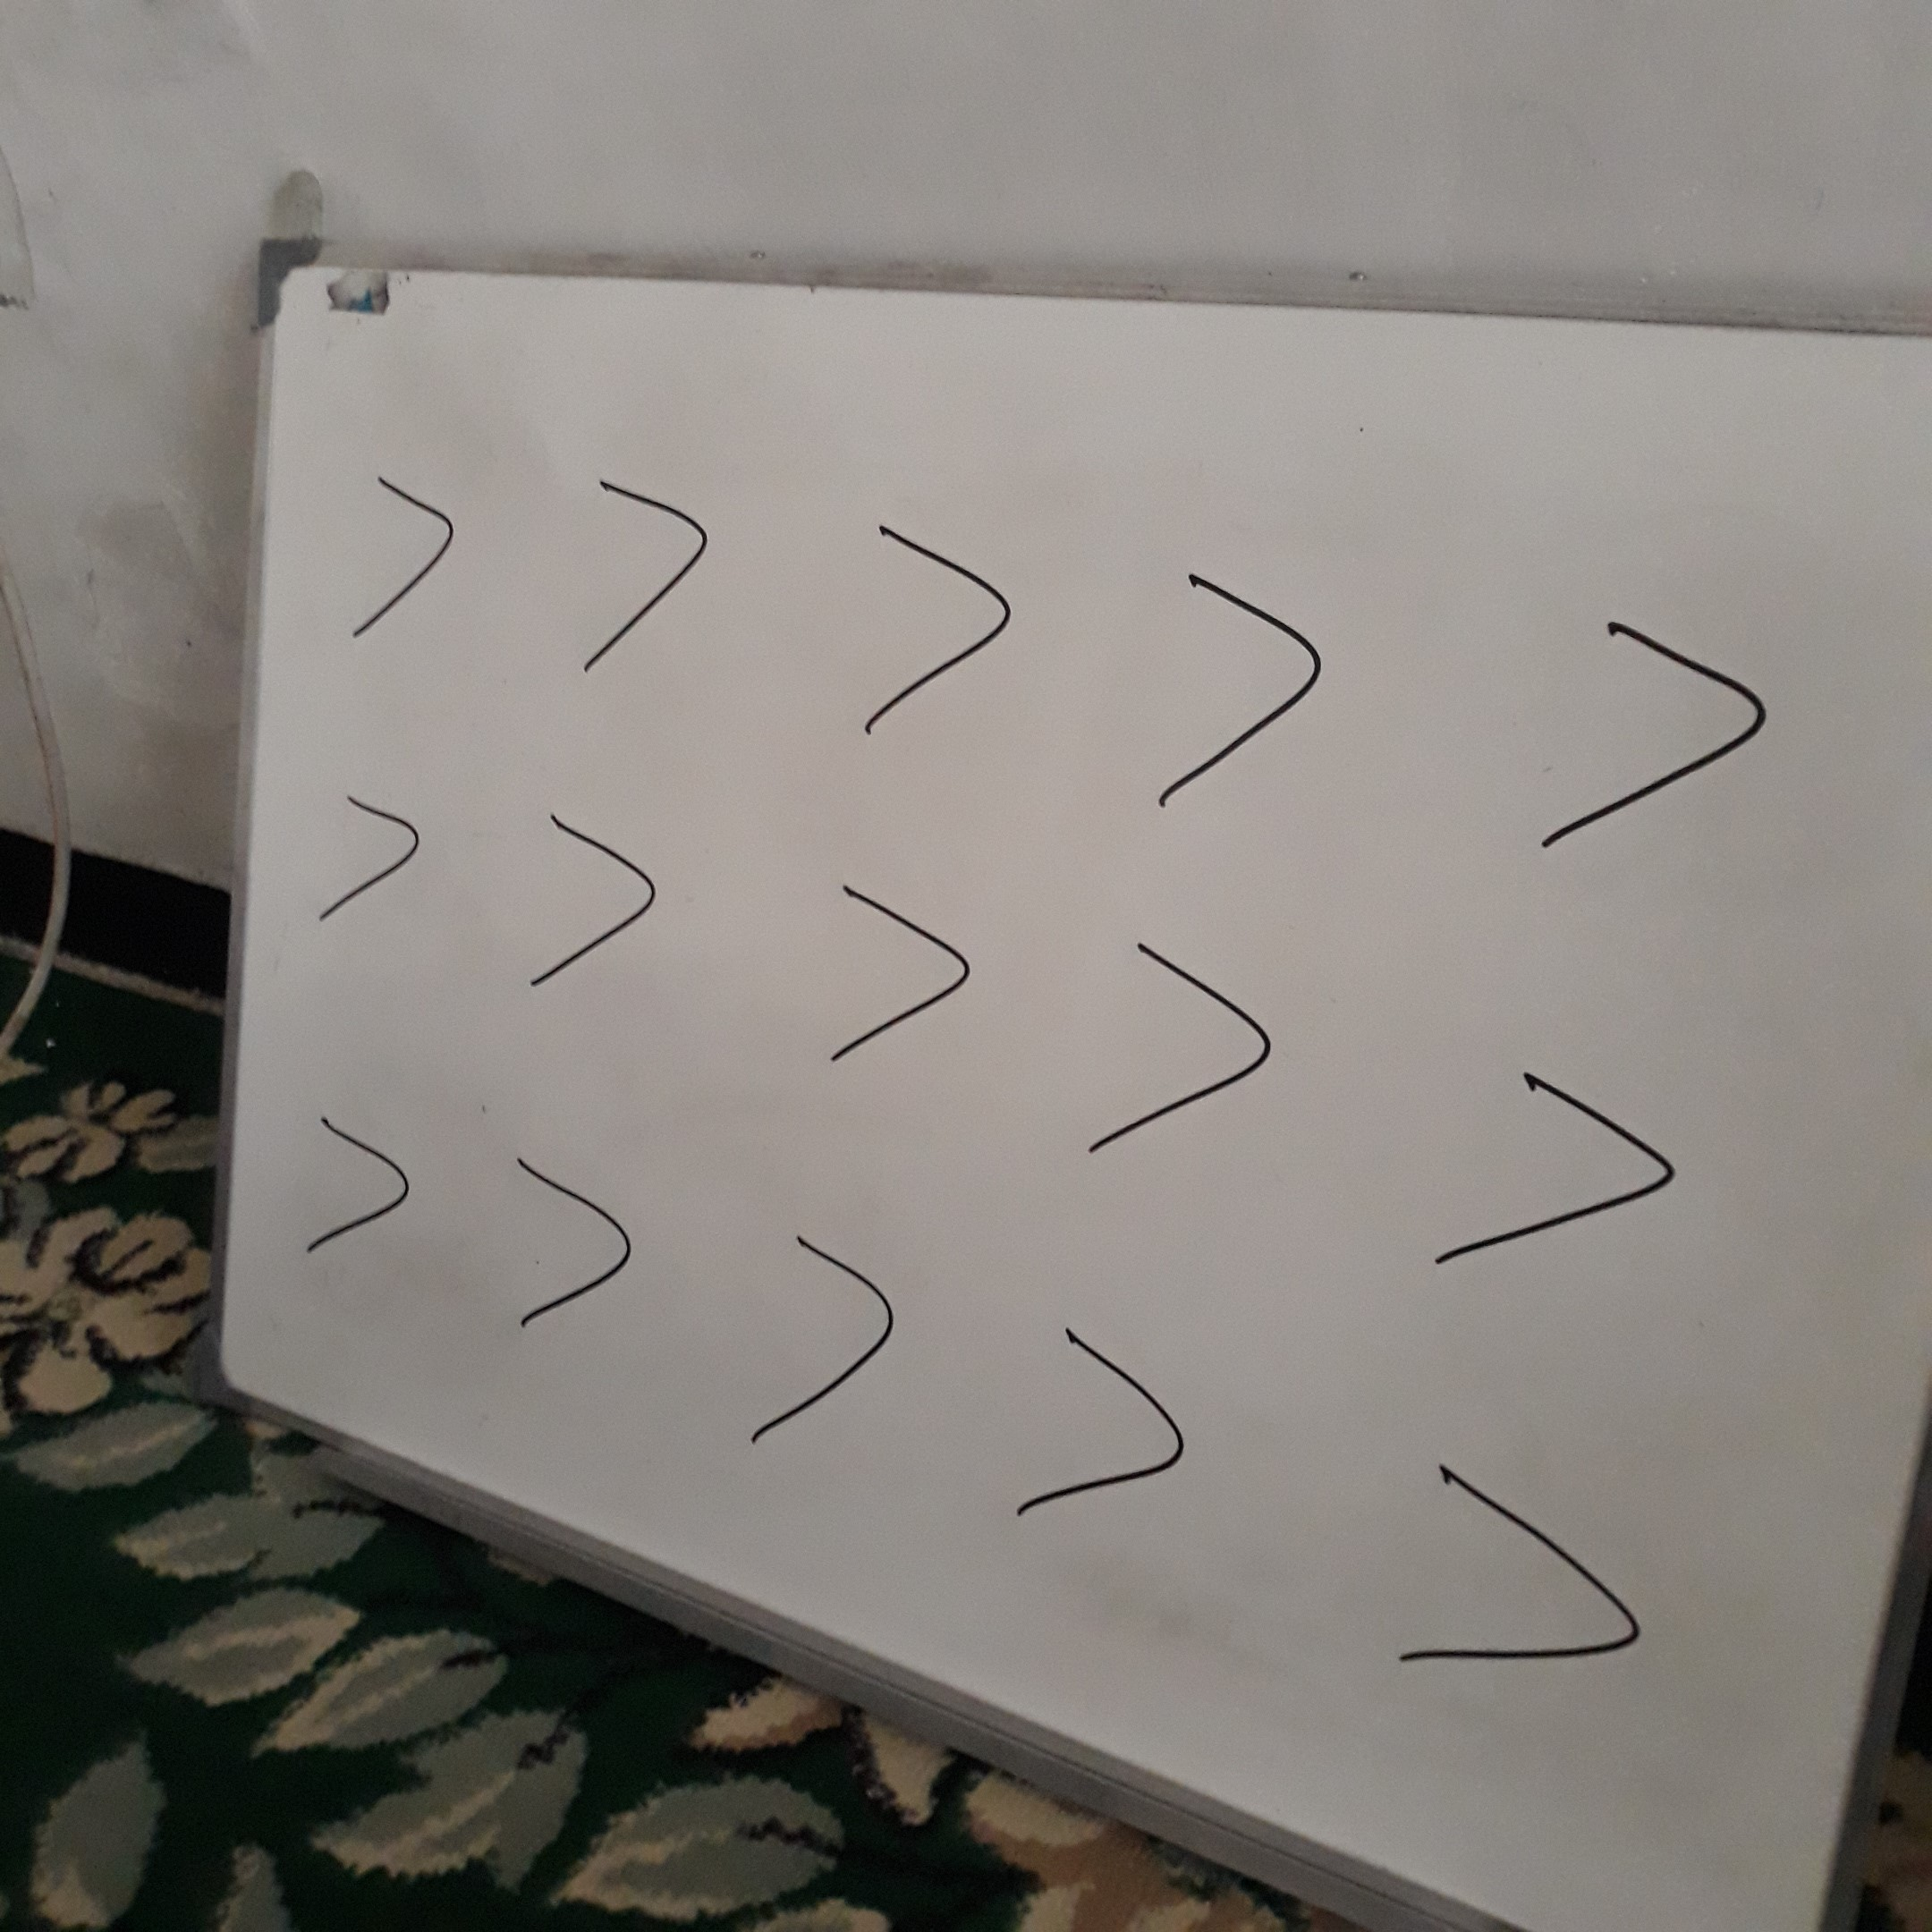morethan: (1522, 555, 1778, 895), (1411, 1004, 1690, 1303), (1371, 1447, 1661, 1680), (1071, 897, 1281, 1178), (1134, 559, 1331, 830), (830, 501, 1027, 752), (990, 1312, 1206, 1523), (552, 458, 725, 691), (744, 1217, 910, 1458), (504, 778, 665, 1021), (817, 845, 979, 1088), (308, 462, 502, 657), (481, 1135, 653, 1344), (296, 733, 442, 962), (275, 1094, 442, 1289)
